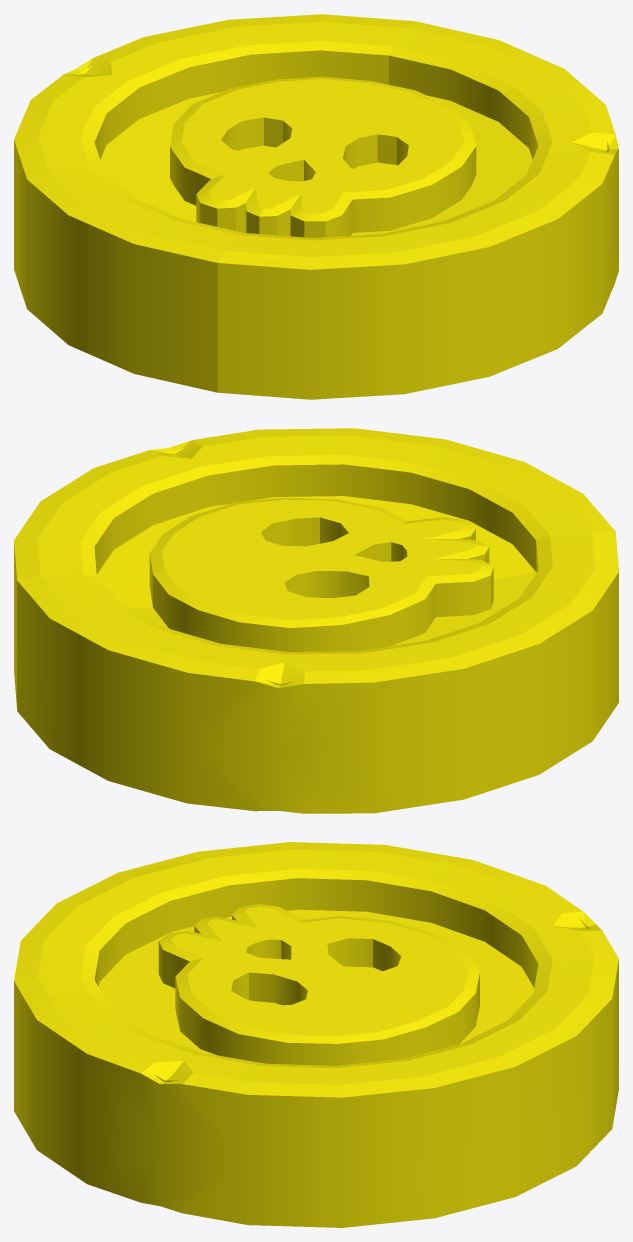
The model's file is gold_coin.fbx.
The picture shows the model from 3 angles, top to bottom: view 1: azimuth 30°, elevation 25°; view 2: azimuth 150°, elevation 25°; view 3: azimuth 270°, elevation 25°; orthographic projection.
Parts seen in each view (by area): view 1: Cilindro.001; view 2: Cilindro.001; view 3: Cilindro.001.
Boxes of the visible parts, <box> form: Cilindro.001: <box>14,14,618,399</box>; Cilindro.001: <box>14,428,618,813</box>; Cilindro.001: <box>14,842,618,1227</box>.
Size of the model in its own units: 343 by 84.56 by 343.
